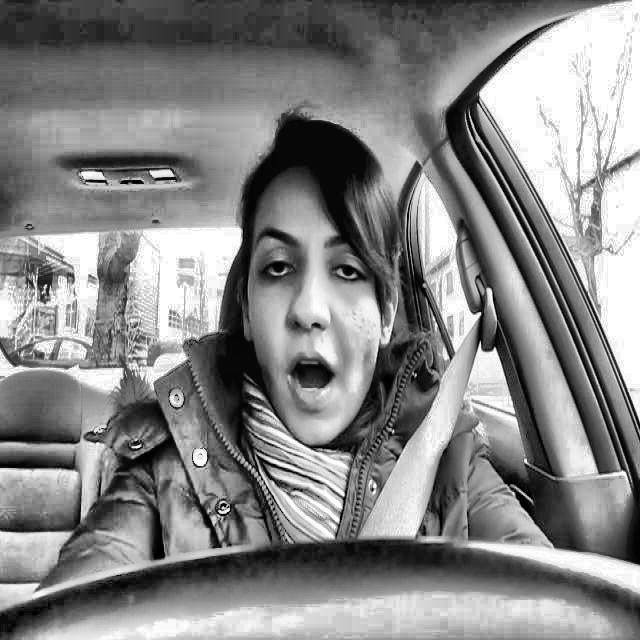open_eyes: (318, 248, 372, 296), (246, 243, 299, 287)
open_mouth: (267, 342, 356, 424)
